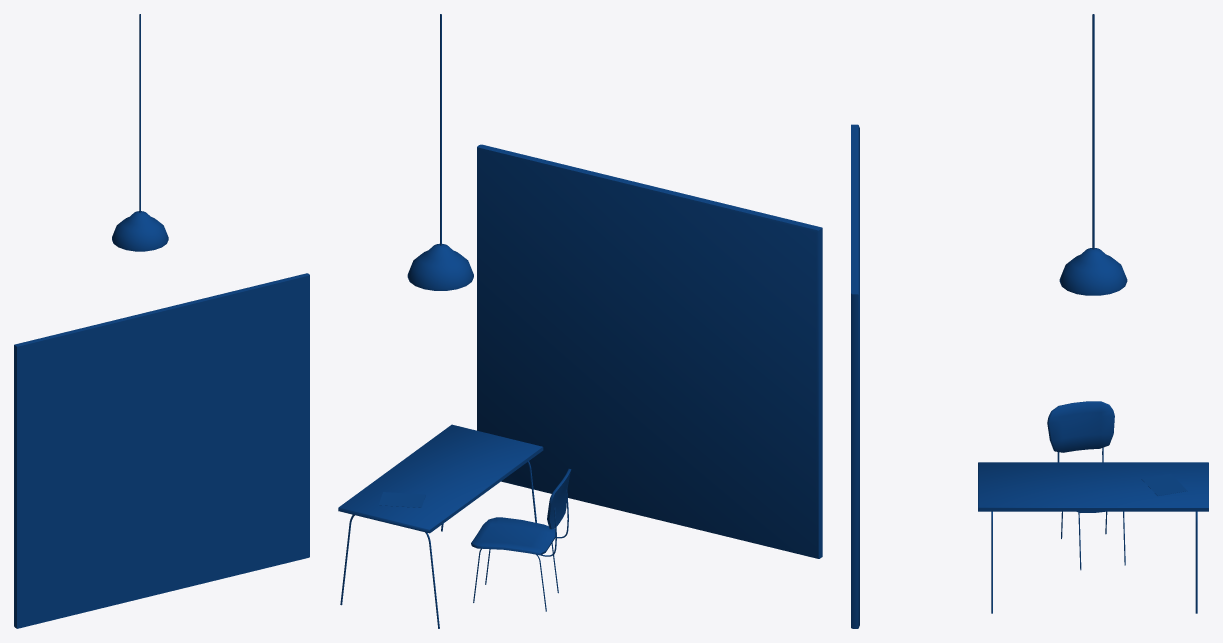
The model's file is IR_assets.fbx.
The picture shows the model from 3 angles, left to right: view 1: azimuth 30°, elevation 25°; view 2: azimuth 150°, elevation 25°; view 3: azimuth 270°, elevation 25°; orthographic projection. The views are drawn at different scales.
Visible parts, largest first — view 1: Board_Mesures, Lamp01; view 2: Board_Mesures, Table01, Chair01, Lamp01; view 3: Table01, Board_Mesures, Chair01, Lamp01, Informe.
Part boxes in pixels (bbox=[...]): Board_Mesures: bbox=[14, 273, 309, 628]; Lamp01: bbox=[112, 14, 168, 251]; Board_Mesures: bbox=[477, 144, 822, 558]; Table01: bbox=[338, 424, 543, 628]; Chair01: bbox=[471, 468, 571, 611]; Lamp01: bbox=[407, 14, 473, 290]; Table01: bbox=[978, 462, 1208, 613]; Board_Mesures: bbox=[851, 124, 859, 628]; Chair01: bbox=[1047, 401, 1125, 570]; Lamp01: bbox=[1059, 14, 1127, 295]; Informe: bbox=[1141, 474, 1187, 495].
Size of the model in its own units: 261 by 412 by 233.
